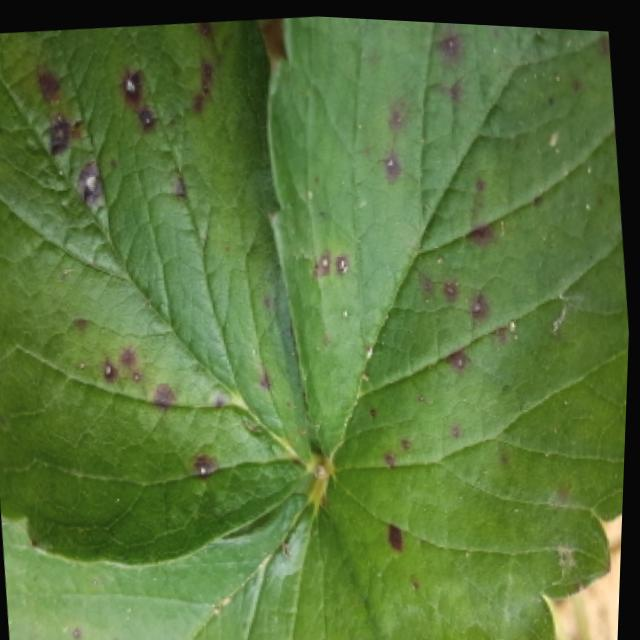Leaf Spot: (267, 12, 631, 640), (0, 15, 320, 564), (4, 479, 389, 640)
